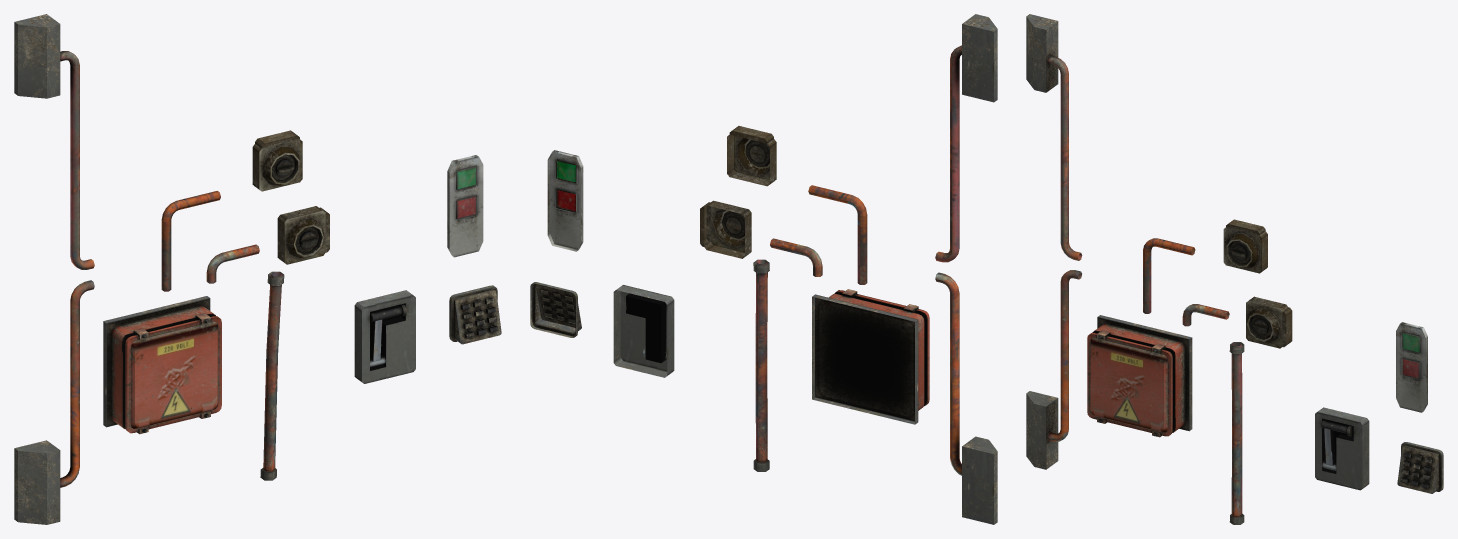
File: DoorLockSet.FBX
3 views of the same model, side by side, from view 1: azimuth 30°, elevation 25°; view 2: azimuth 150°, elevation 25°; view 3: azimuth 330°, elevation 25° (orthographic). The views are drawn at different scales.
Visible parts, largest first — view 1: DoorMainMeter, DoorSupport, LeverBox, LockIndicator, Pipe_03, Meter_01, Meter_02, LockKeypad, Pipe_01, Lever, Pipe_02; view 2: DoorMainMeter, DoorSupport, LeverBox, LockIndicator, Pipe_03, Meter_01, Meter_02, LockKeypad, Pipe_01, Pipe_02; view 3: DoorMainMeter, DoorSupport, LeverBox, LockIndicator, Pipe_03, Meter_01, Meter_02, LockKeypad, Pipe_01, Lever, Pipe_02.
Part boxes in pixels (x1,y1,x2,y2): DoorMainMeter: (103, 296, 221, 434); DoorSupport: (14, 14, 94, 524); LeverBox: (354, 290, 415, 383); LockIndicator: (447, 155, 483, 257); Pipe_03: (260, 271, 284, 480); Meter_01: (252, 130, 302, 191); Meter_02: (277, 206, 329, 264); LockKeypad: (449, 285, 501, 344); Pipe_01: (161, 191, 220, 291); Lever: (370, 304, 406, 361); Pipe_02: (206, 244, 259, 283); DoorMainMeter: (812, 289, 929, 424); DoorSupport: (935, 14, 997, 524); LeverBox: (613, 285, 674, 377); LockIndicator: (547, 150, 583, 251); Pipe_03: (753, 259, 769, 471); Meter_01: (727, 126, 776, 186); Meter_02: (700, 200, 751, 258); LockKeypad: (530, 282, 581, 337); Pipe_01: (808, 185, 867, 284); Pipe_02: (770, 238, 822, 276); DoorMainMeter: (1087, 315, 1192, 437); DoorSupport: (1026, 14, 1082, 469); LeverBox: (1315, 407, 1369, 490); LockIndicator: (1396, 322, 1427, 412); Pipe_03: (1229, 342, 1244, 524); Meter_01: (1223, 219, 1267, 273); Meter_02: (1246, 296, 1292, 348); LockKeypad: (1397, 442, 1443, 493); Pipe_01: (1143, 238, 1195, 313); Lever: (1321, 420, 1353, 465); Pipe_02: (1182, 304, 1229, 326).
Size of the model in its own units: 193 by 197 by 18.42.
